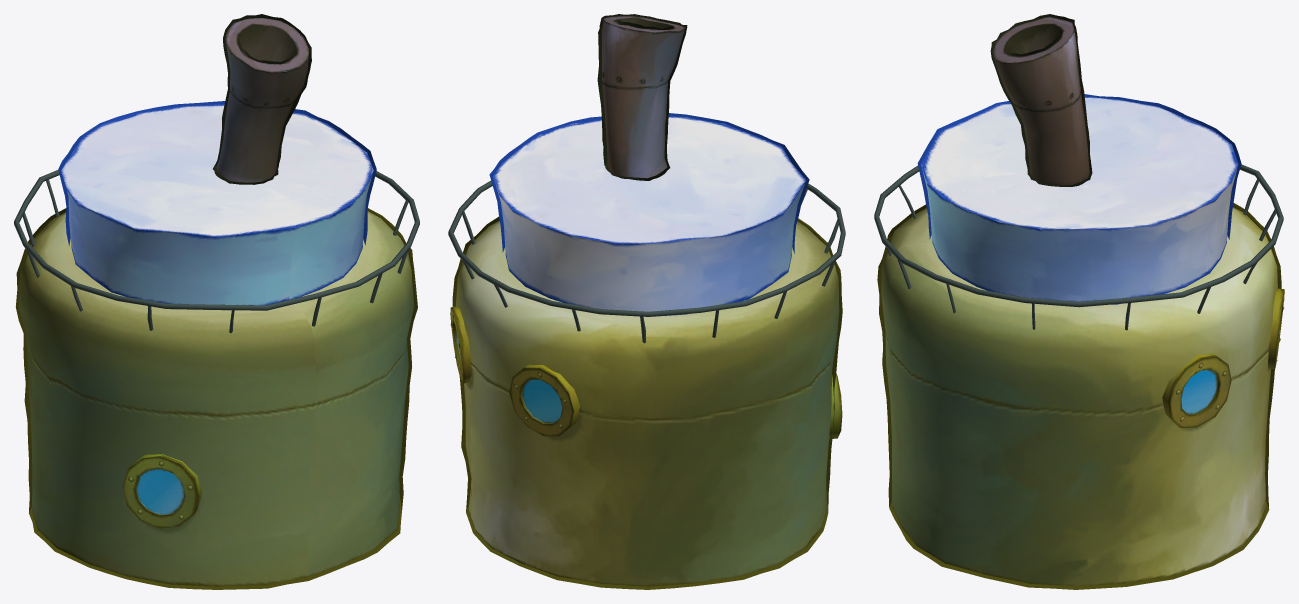
The picture shows the model from 3 angles, left to right: view 1: azimuth 30°, elevation 25°; view 2: azimuth 150°, elevation 25°; view 3: azimuth 270°, elevation 25°; orthographic projection. The views are drawn at different scales.
Visible parts, largest first — view 1: Object_6; view 2: Object_6; view 3: Object_6.
Part boxes in pixels (box(x1,y1,x2,y2)): Object_6: box(14, 14, 419, 589); Object_6: box(448, 14, 845, 589); Object_6: box(874, 14, 1284, 589).
Size of the model in its own units: 38.94 by 52.15 by 39.07.
Materials: 1 (1 with a texture image).
